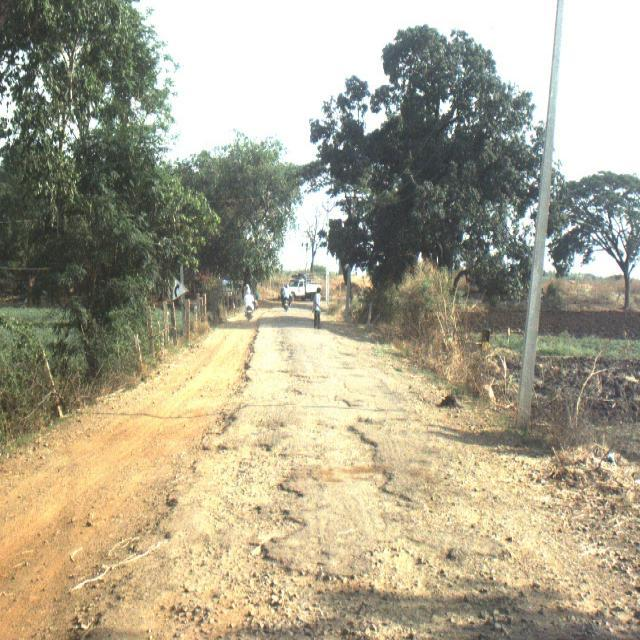pothole: (18, 365, 548, 634)
